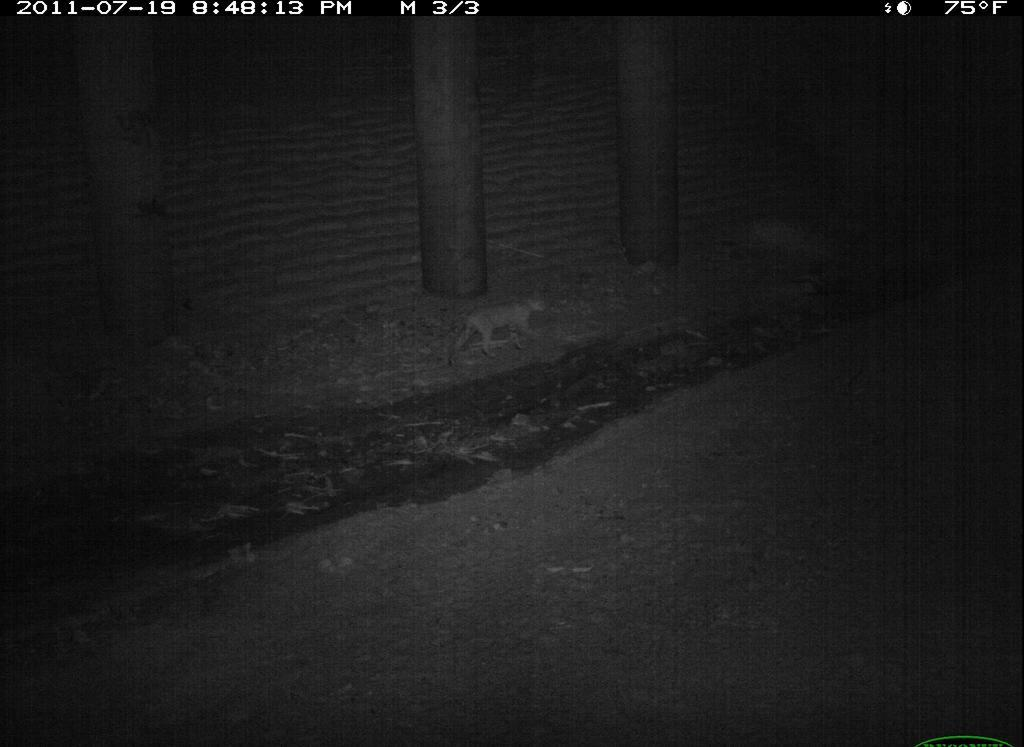bobcat: (891, 575, 1024, 734)
